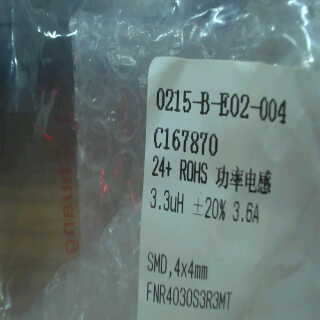3.3uH: (144, 183, 188, 220)
